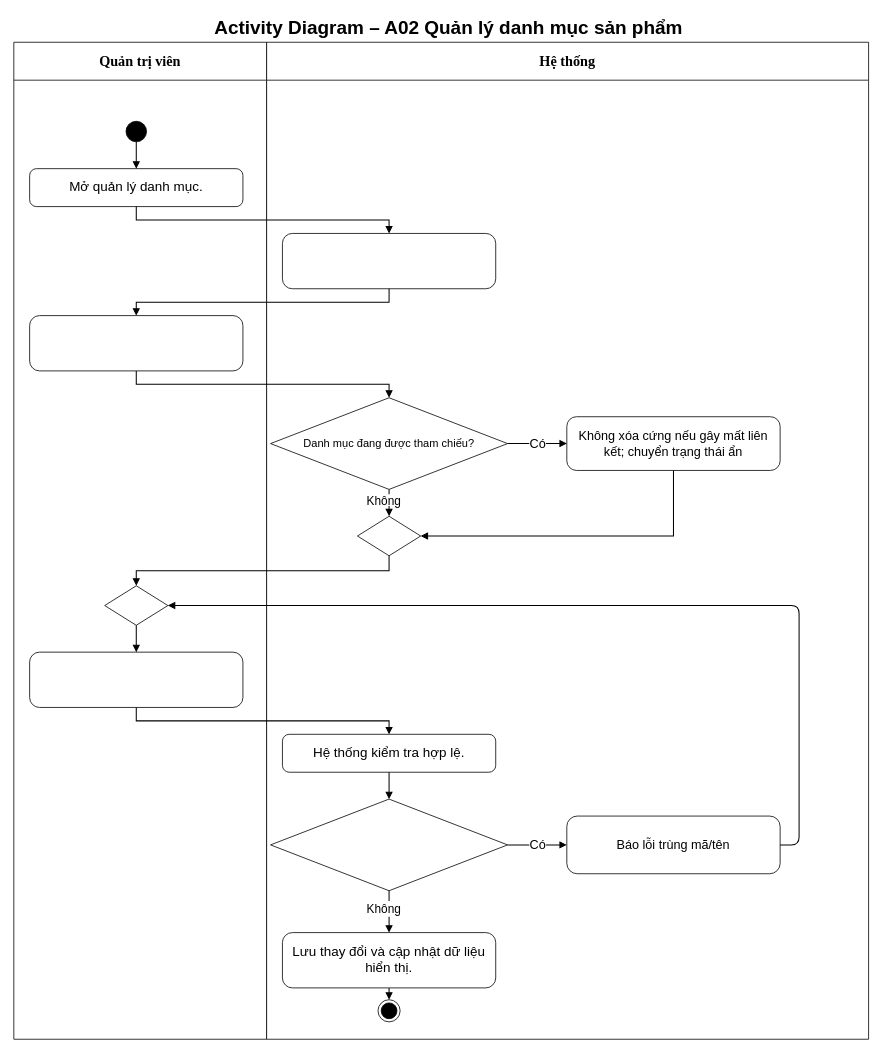
The diagram is 882 pixels wide and 1053 high, and some of its shapes have lost their labels. The box of each missing label's shape, as (x1, y1, x2, y2) in pixels:
Hệ thống hiển thị cây/danh sách danh mục.: (282, 233, 496, 289)
Nhập tên, thứ tự, trạng thái và liên kết cần thiết.: (29, 651, 243, 707)
Quản trị viên thêm hoặc chọn danh mục cần sửa.: (29, 315, 243, 371)
Trùng mã/tên không hợp lệ?: (270, 798, 508, 891)
